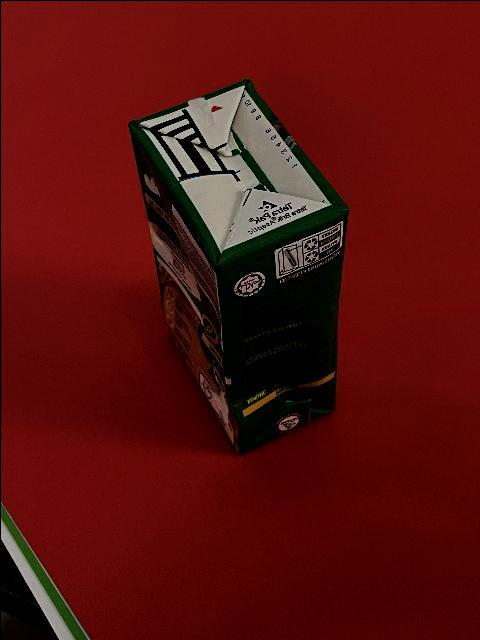drinkpack: (126, 73, 350, 457)
